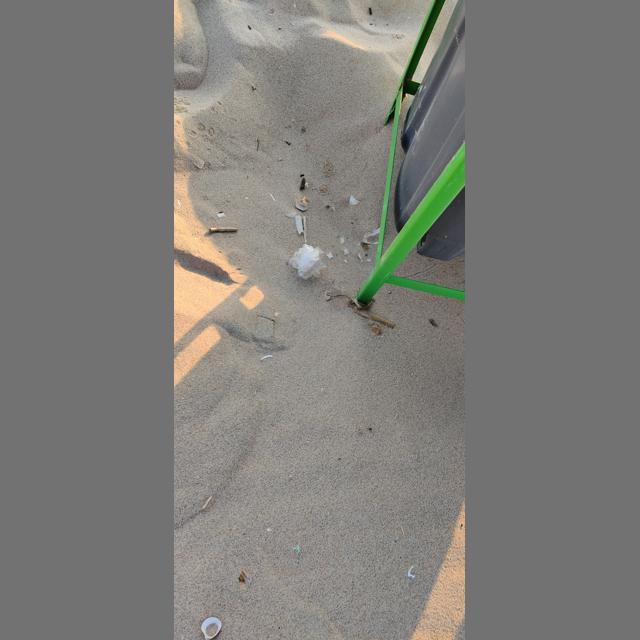litter: (286, 244, 326, 279)
